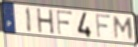4: (77, 11, 93, 39)
F: (95, 13, 112, 39), (56, 9, 73, 35)
H: (36, 8, 56, 35)
I: (25, 6, 33, 34)
M: (113, 15, 134, 41)
